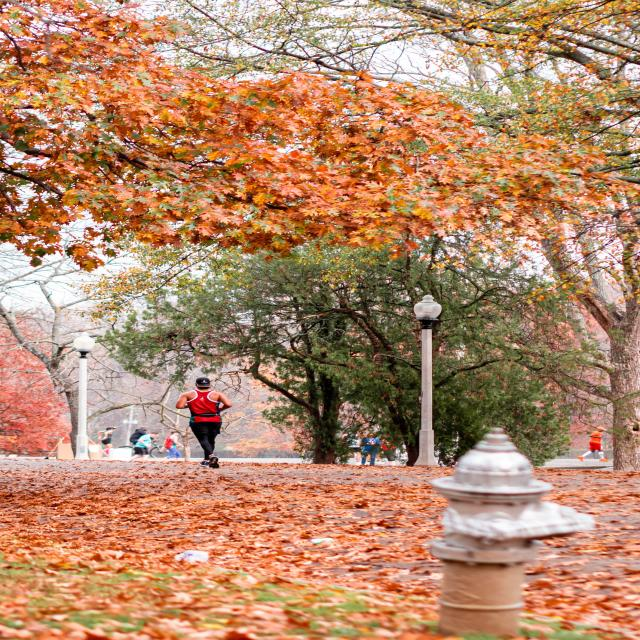running: (176, 374, 243, 469)
